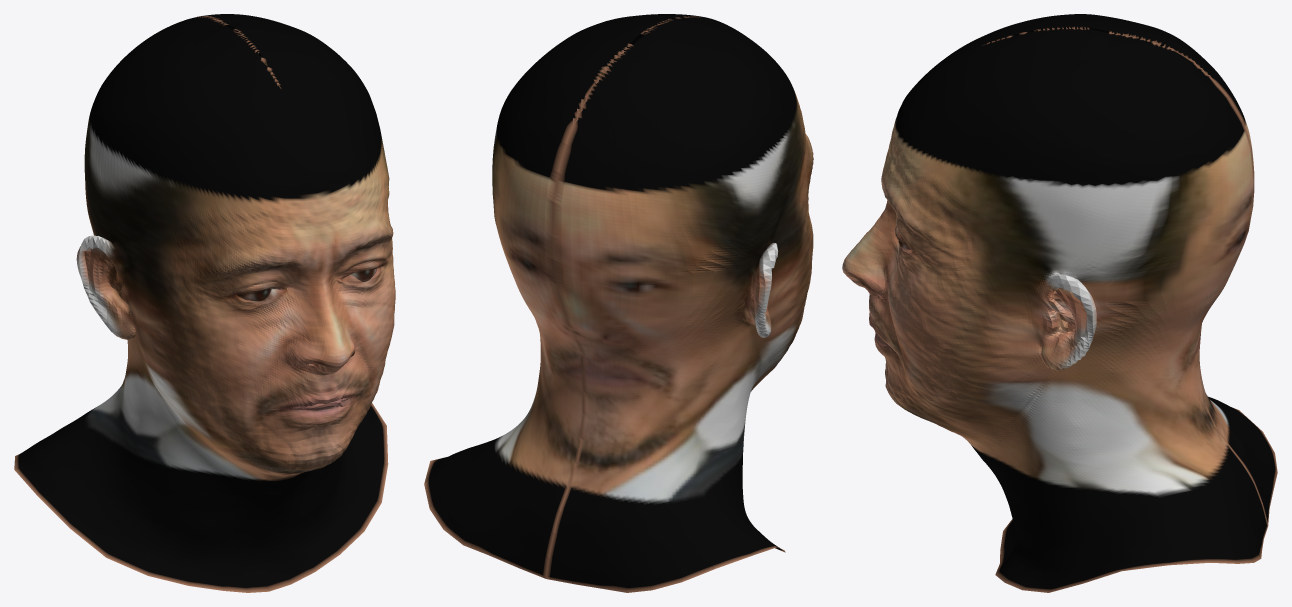
The model's file is mesh_coarse_detail.obj.
3 views of the same model, side by side, from view 1: azimuth 30°, elevation 25°; view 2: azimuth 150°, elevation 25°; view 3: azimuth 270°, elevation 25° (orthographic). The views are drawn at different scales.
Size of the model in its own units: 0.2184 by 0.3246 by 0.2371.
